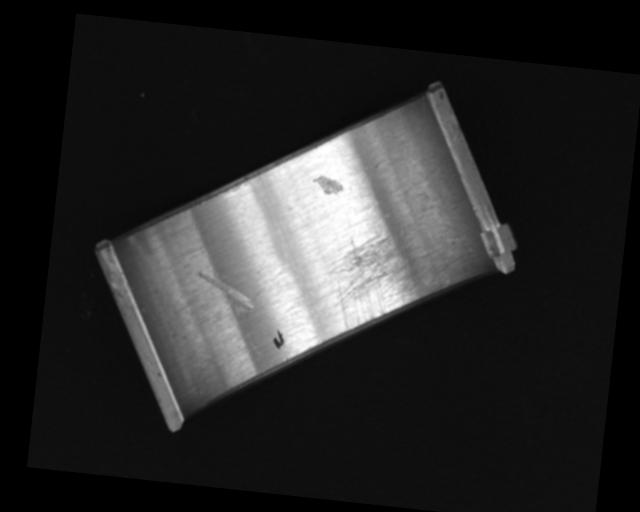blot: (271, 328, 286, 350)
bruise: (311, 174, 345, 197)
nick: (243, 283, 281, 372), (194, 271, 258, 312)
scratch: (320, 222, 449, 342)
